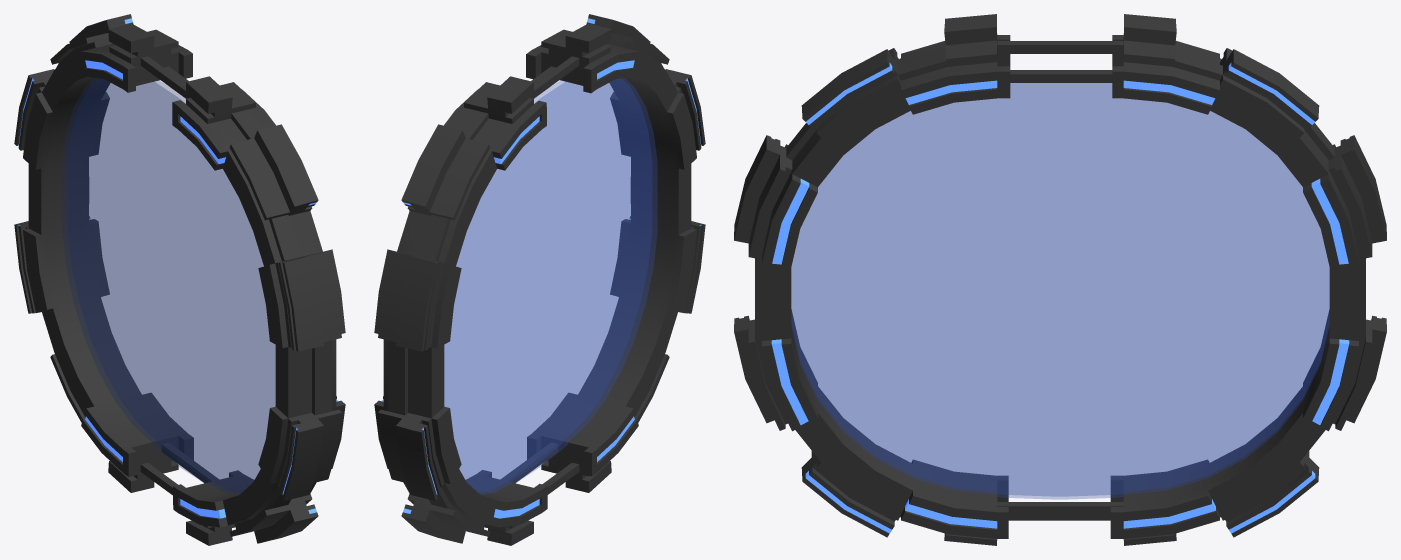
Rendered from AirPortal.fbx.
The picture shows the model from 3 angles, left to right: view 1: azimuth 30°, elevation 25°; view 2: azimuth 150°, elevation 25°; view 3: azimuth 270°, elevation 25°; orthographic projection. The views are drawn at different scales.
Parts seen in each view (by area): view 1: gate_airWide_blue, gate_groundWide_blue1_blueW; view 2: gate_airWide_blue, gate_groundWide_blue1_blueW; view 3: gate_groundWide_blue1_blueW, gate_airWide_blue.
Part boxes in pixels (x1,y1,x2,y2): gate_airWide_blue: [14, 14, 345, 545]; gate_groundWide_blue1_blueW: [62, 78, 275, 494]; gate_airWide_blue: [374, 14, 705, 545]; gate_groundWide_blue1_blueW: [444, 78, 657, 494]; gate_groundWide_blue1_blueW: [791, 83, 1329, 499]; gate_airWide_blue: [734, 14, 1386, 545].
Size of the model in its own units: 1.17 by 7.77 by 8.86.
